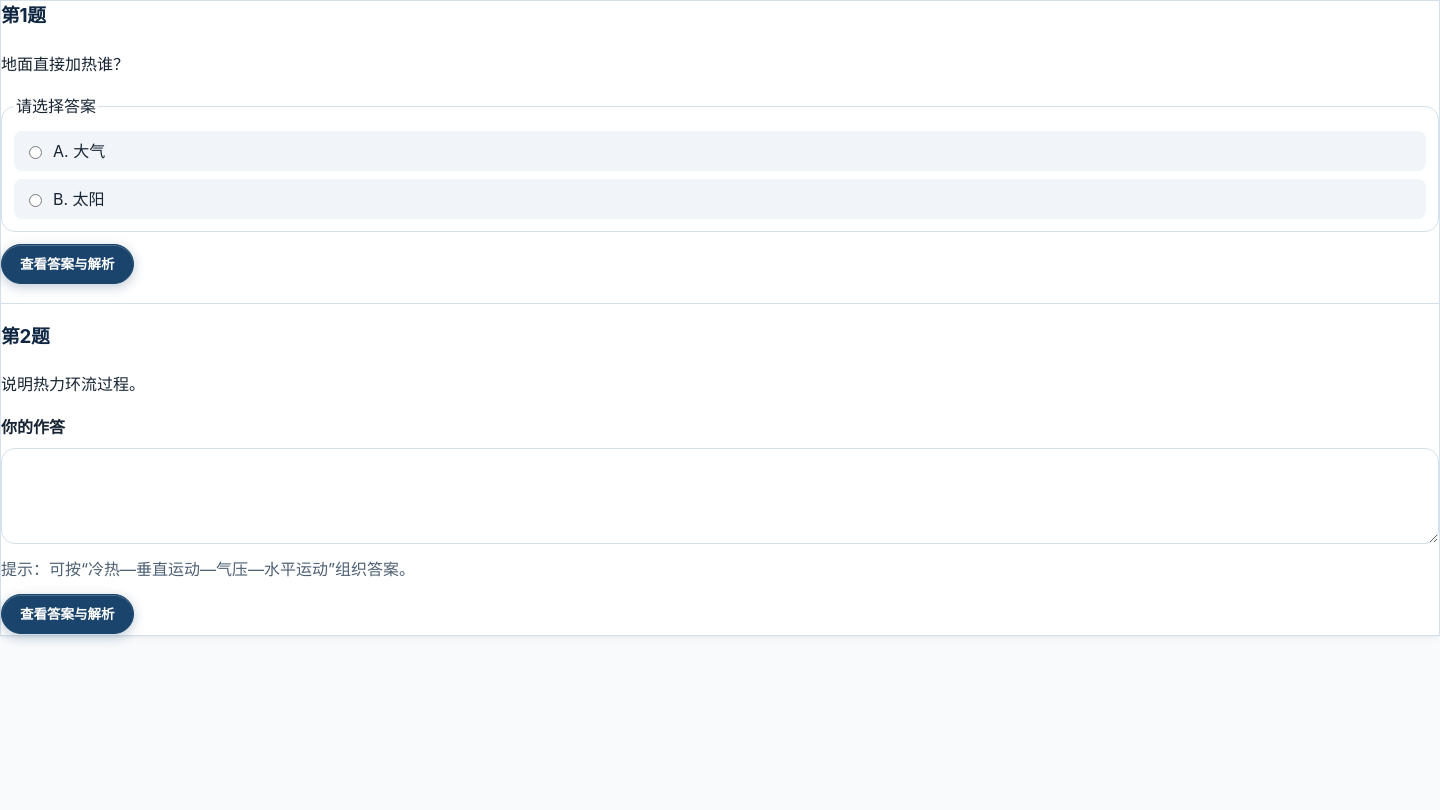
PracticePanel › connects each reveal button to its own answer region
This screenshot has width=1440, height=810.
What coordinates should you click on to do the following:
click the button "查看答案与解析" below "提示：可按“冷热—垂直运动—气压—水平运动”组织答案。"
I would click on:
 (67, 615)
Its box is [1,594,134,635].
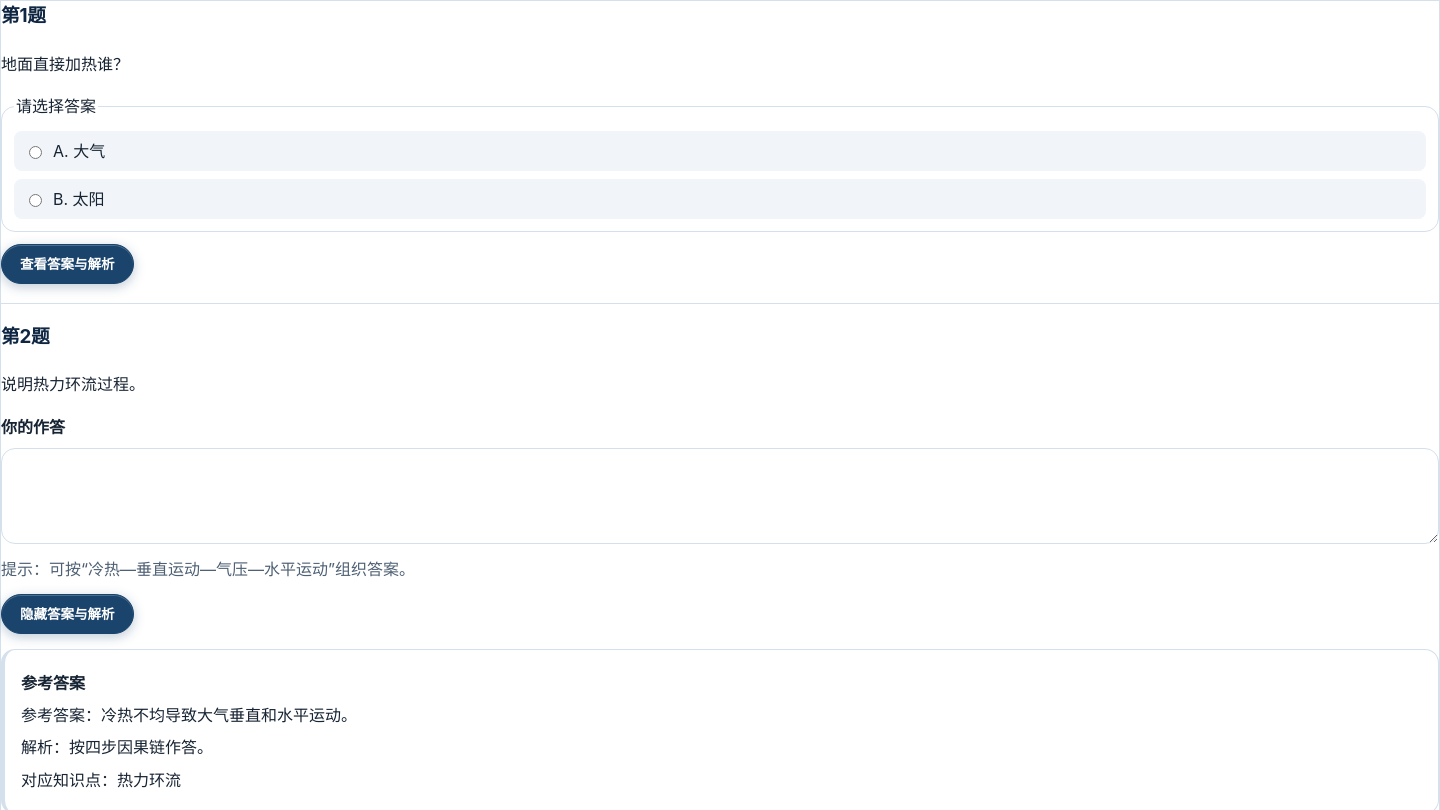
Now the button "隐藏答案与解析" is expanded, box [1,594,134,635]
